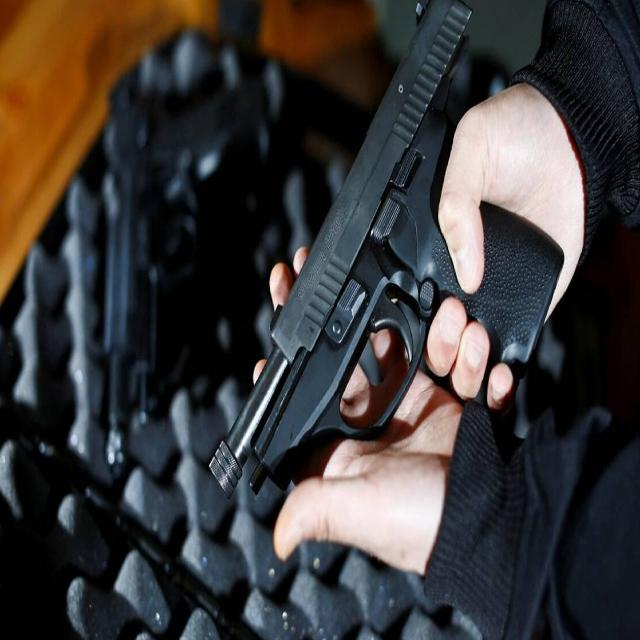Weapon: (211, 0, 563, 497)
